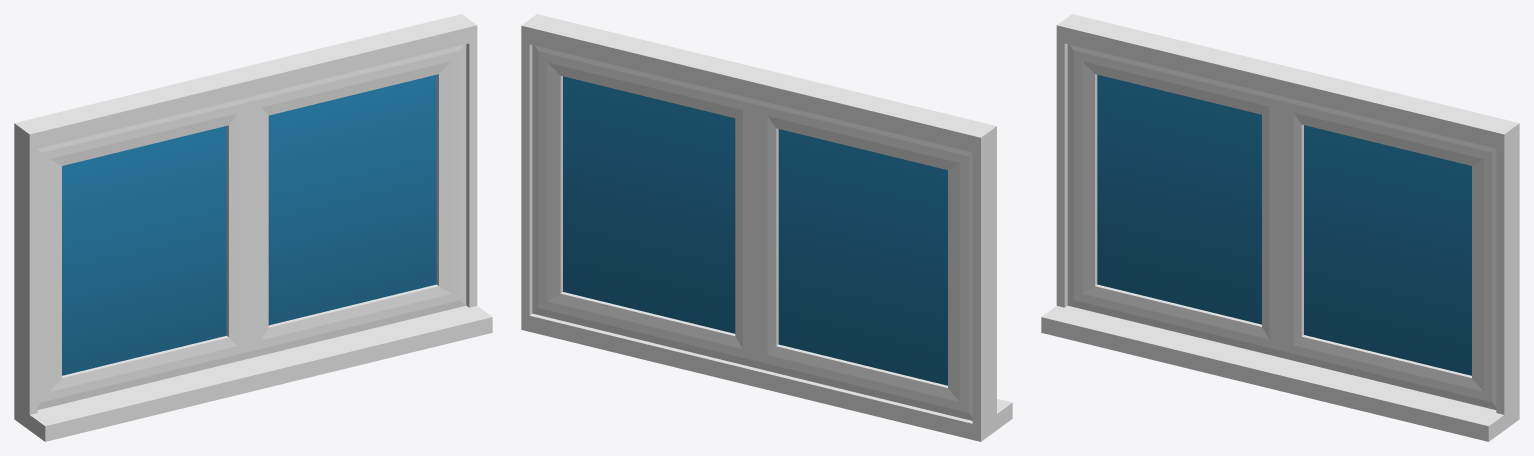
Rendered from WindowLarge05.fbx.
3 views of the same model, side by side, from view 1: azimuth 30°, elevation 25°; view 2: azimuth 150°, elevation 25°; view 3: azimuth 330°, elevation 25° (orthographic). The views are drawn at different scales.
Parts seen in each view (by area): view 1: WindowLarge05; view 2: WindowLarge05; view 3: WindowLarge05.
Boxes of the visible parts, left/top/right/bottom form: WindowLarge05: left=14, top=14, right=492, bottom=441; WindowLarge05: left=521, top=14, right=1012, bottom=441; WindowLarge05: left=1041, top=14, right=1519, bottom=441.
Size of the model in its own units: 167 by 106 by 20.
